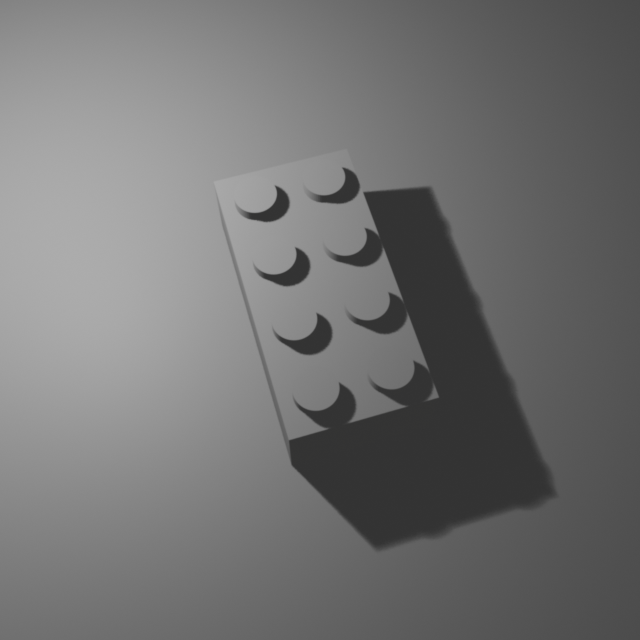lego_2x4: (212, 141, 441, 465)
